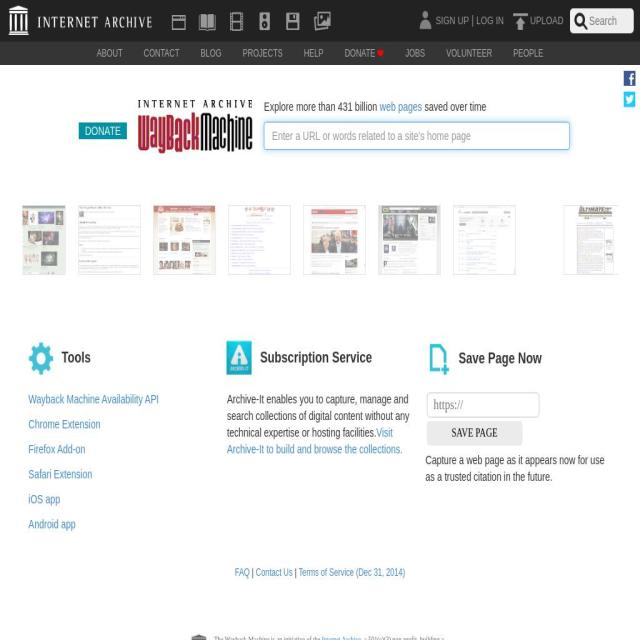button: (427, 421, 522, 446), (138, 142, 253, 156), (512, 8, 564, 34), (75, 123, 127, 139), (446, 48, 492, 61), (432, 14, 472, 28), (243, 48, 283, 61), (344, 48, 384, 61), (143, 48, 180, 61), (474, 14, 507, 28), (513, 48, 544, 61), (96, 48, 123, 61), (200, 48, 222, 61), (405, 48, 426, 61), (304, 48, 324, 61)
field: (264, 122, 570, 150), (426, 392, 540, 418), (573, 14, 630, 28)
image: (138, 99, 253, 153), (192, 205, 255, 273), (42, 205, 104, 273), (118, 205, 180, 273), (268, 205, 330, 273), (342, 205, 404, 273), (418, 205, 480, 273), (492, 205, 554, 273), (602, 205, 640, 273), (37, 16, 152, 28), (25, 338, 56, 378), (224, 338, 254, 378), (422, 338, 452, 378)
link: (227, 426, 403, 456), (28, 392, 159, 406), (298, 567, 405, 578), (28, 417, 101, 431), (28, 467, 93, 481), (28, 442, 86, 456), (313, 0, 331, 42), (199, 0, 216, 42), (285, 0, 301, 42), (28, 517, 76, 531), (171, 0, 186, 42), (229, 0, 244, 42), (257, 0, 272, 42), (379, 100, 422, 113), (28, 492, 60, 506), (256, 567, 293, 578), (322, 635, 361, 640), (234, 567, 250, 578)
text: (227, 393, 410, 439), (425, 452, 612, 485), (458, 349, 600, 367), (260, 348, 372, 366), (214, 635, 444, 640), (264, 100, 338, 113), (422, 100, 487, 113), (78, 123, 128, 139), (530, 13, 564, 29), (61, 348, 91, 366), (214, 635, 322, 640), (338, 100, 378, 113), (435, 14, 469, 27), (417, 8, 433, 34), (344, 48, 378, 59), (476, 14, 504, 27), (292, 567, 298, 578), (249, 567, 254, 578), (472, 11, 474, 28)
